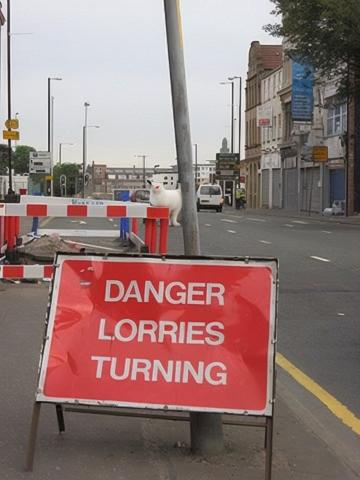car: (197, 185, 224, 215), (131, 190, 149, 203)
cat: (146, 175, 183, 226)
